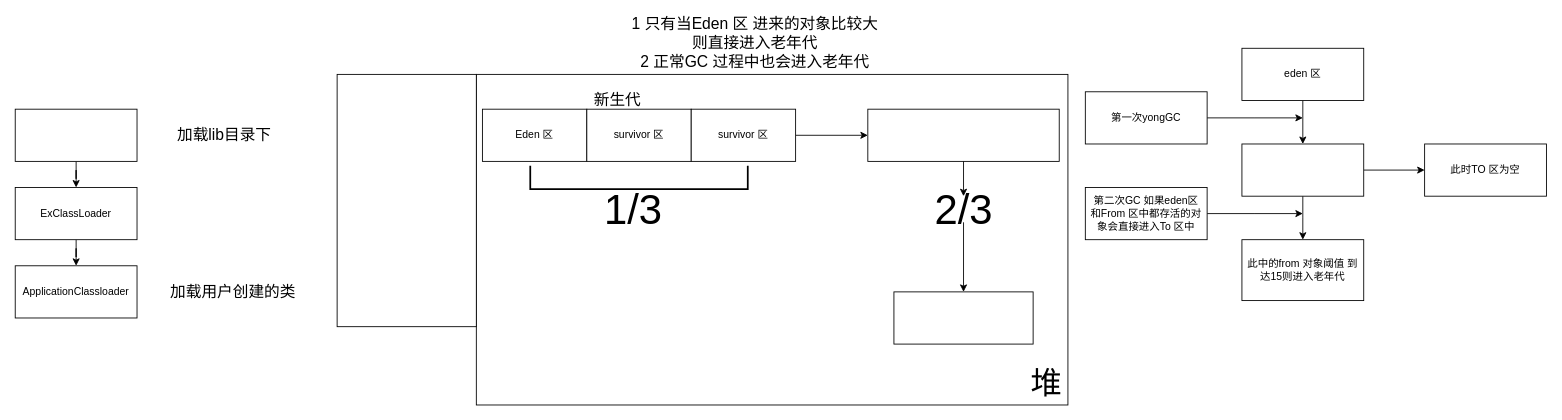
The diagram is 1562 pixels wide and 420 high, and some of its shapes have lost their labels. The shapes that lost their labels are listed below. From the top down, each one's centre as x and y in pixels, then its label:
At point (75, 134): "ClassLoader".
At point (963, 134): "老年代".
At point (1302, 169): "存活的会进入到From 区中".
At point (406, 200): "1. 新生代中的对象什么时候会进入老年代 正常GC 产生大对象 动态gc".
At point (963, 317): "metaspeace(元数据)".
